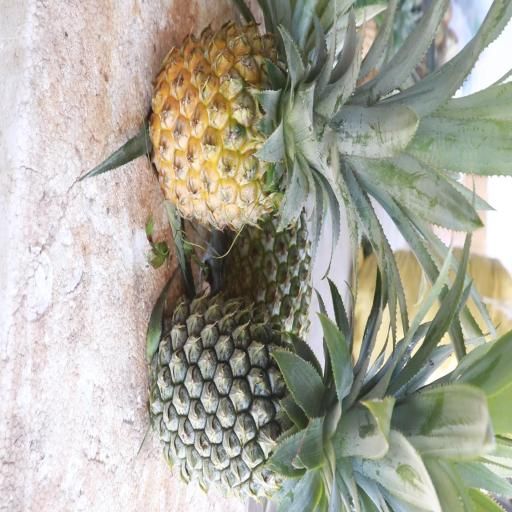Pineapple - v8 v1: (144, 9, 434, 240)
